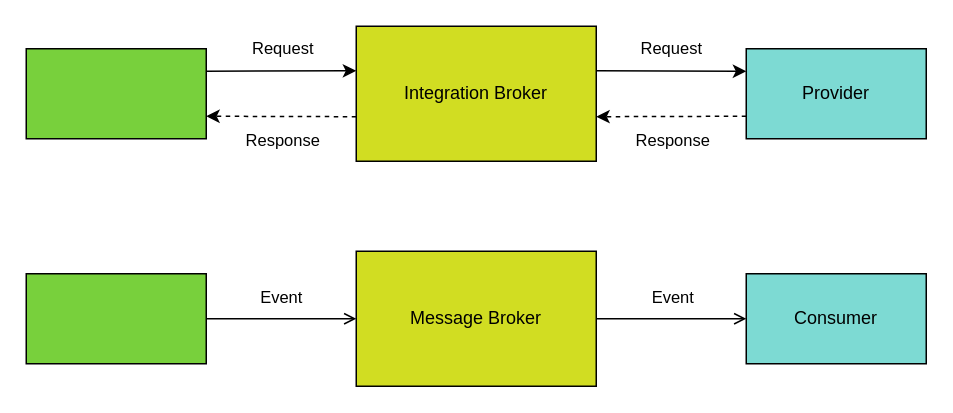
Image size: 953x413. Some labels were removed from this diagram. The box of each missing label's shape, as (x1, y1, x2, y2) in pixels:
Client: (25, 47, 206, 139)
Producer: (25, 272, 206, 364)
